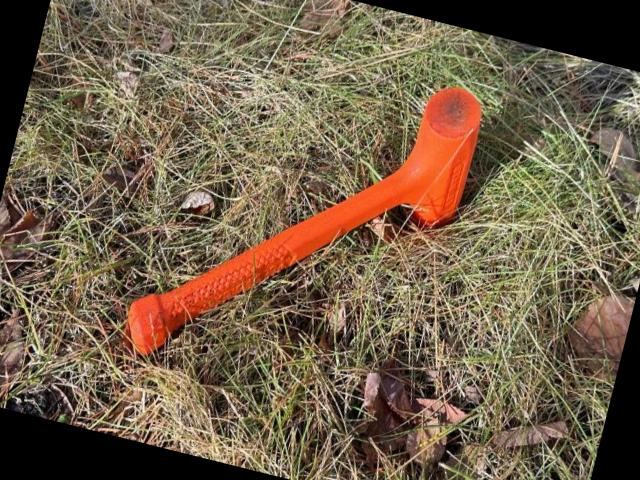hammer: (118, 20, 490, 419)
